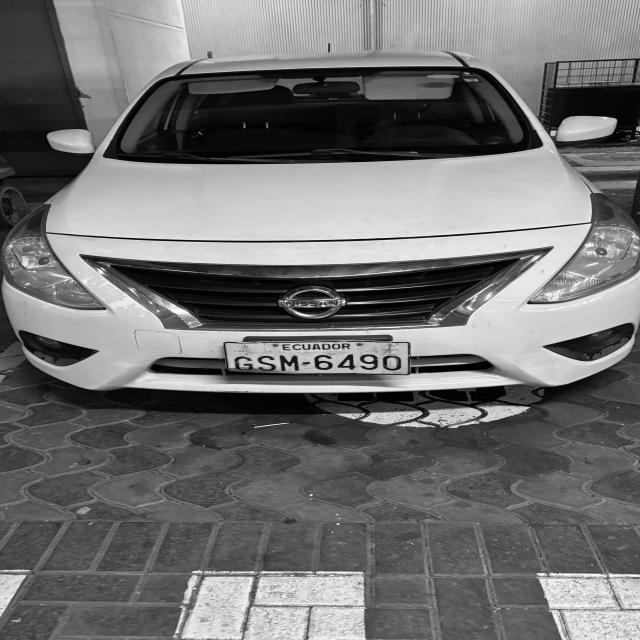Placa: (225, 340, 410, 375)
